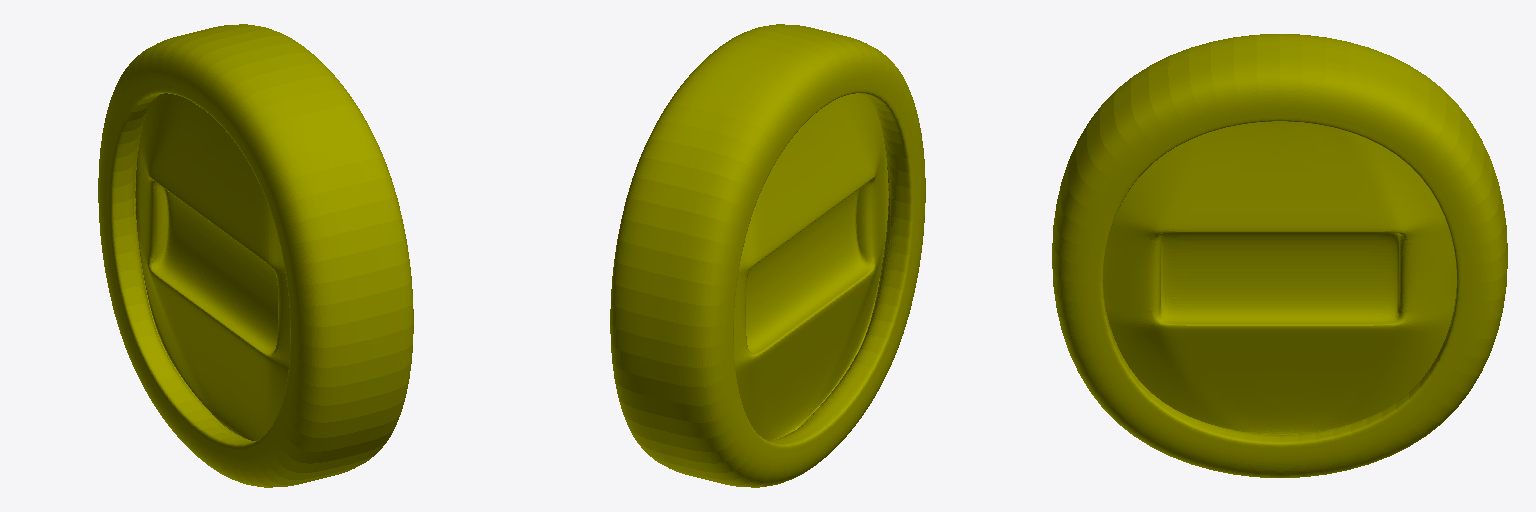
File: coin.obj
The picture shows the model from 3 angles: view 1: azimuth 30°, elevation 25°; view 2: azimuth 150°, elevation 25°; view 3: azimuth 270°, elevation 25°; orthographic projection.
Visible parts, largest first — view 1: Cube.010_Cube.014; view 2: Cube.010_Cube.014; view 3: Cube.010_Cube.014.
Boxes of the visible parts, <box> form: Cube.010_Cube.014: <box>98,24,413,487</box>; Cube.010_Cube.014: <box>610,24,925,487</box>; Cube.010_Cube.014: <box>1052,34,1507,477</box>.
Size of the model in its own units: 0.5165 by 1.84 by 1.84.